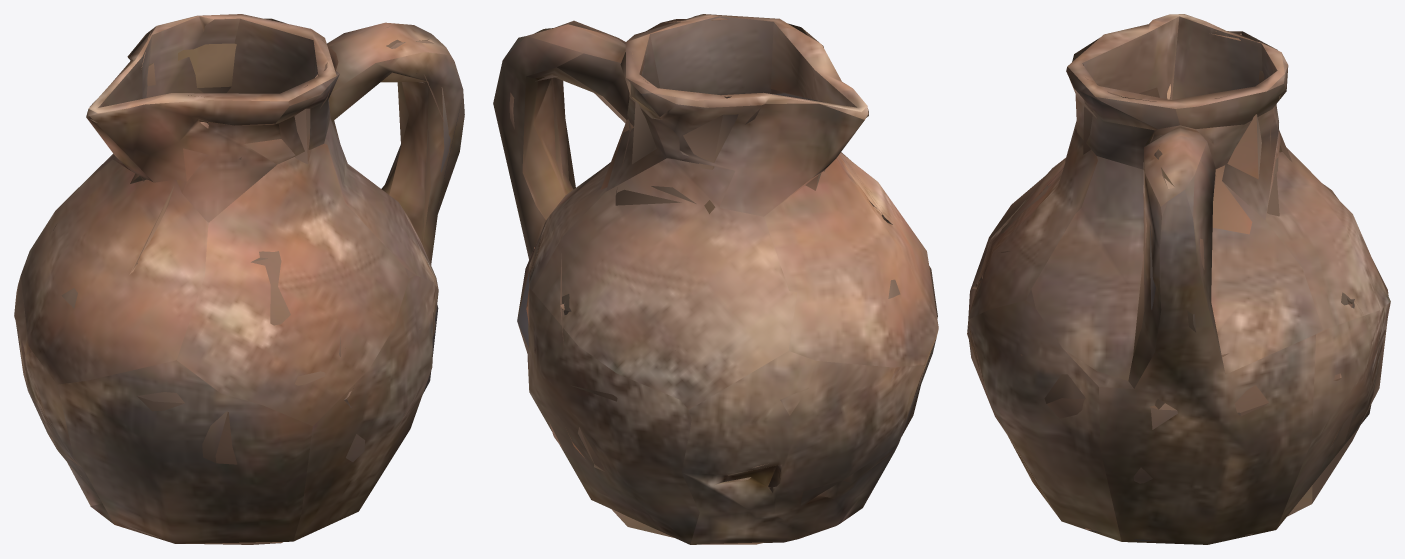
The picture shows the model from 3 angles, left to right: view 1: azimuth 30°, elevation 25°; view 2: azimuth 150°, elevation 25°; view 3: azimuth 270°, elevation 25°; orthographic projection.
Visible parts, largest first — view 1: geometry_0; view 2: geometry_0; view 3: geometry_0.
Boxes of the visible parts, <box> form: geometry_0: <box>14,14,464,544</box>; geometry_0: <box>493,14,938,544</box>; geometry_0: <box>967,14,1390,544</box>.
Size of the model in its own units: 0.2483 by 0.2481 by 0.2225.
1 material, 1 textured.
